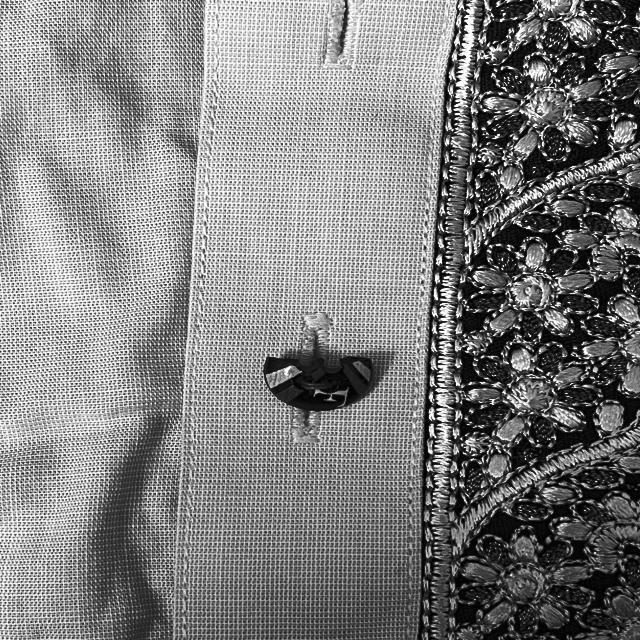Broken_button: (248, 321, 404, 428)
